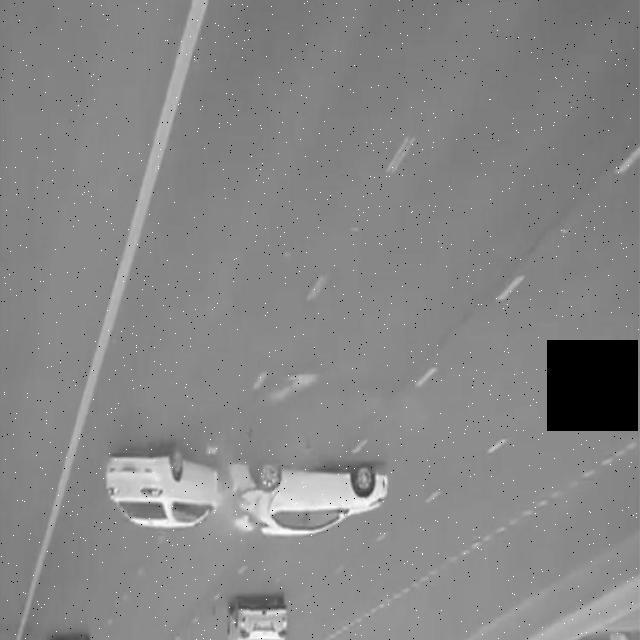moderate: (102, 446, 392, 546)
